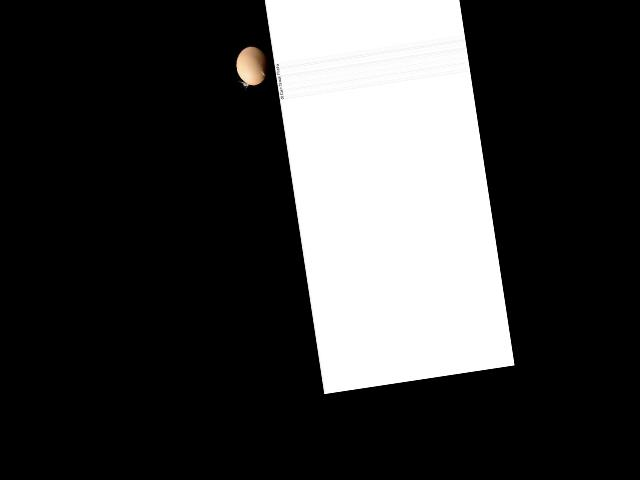egg: (234, 44, 270, 87)
